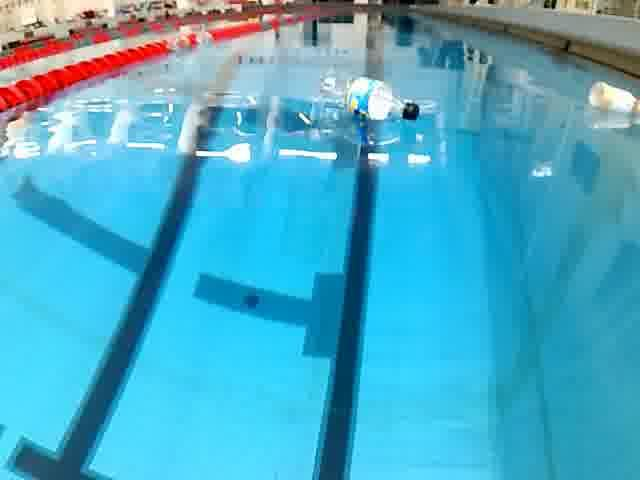Bottle: (316, 74, 424, 126), (580, 76, 640, 124)
